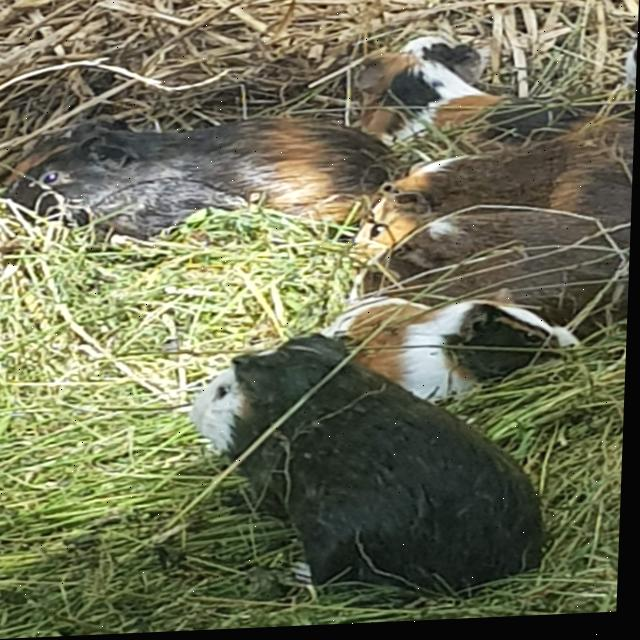guinea pig: (181, 325, 568, 615), (0, 107, 407, 253), (319, 31, 638, 155), (264, 289, 592, 408), (341, 129, 636, 246), (352, 207, 633, 329)
